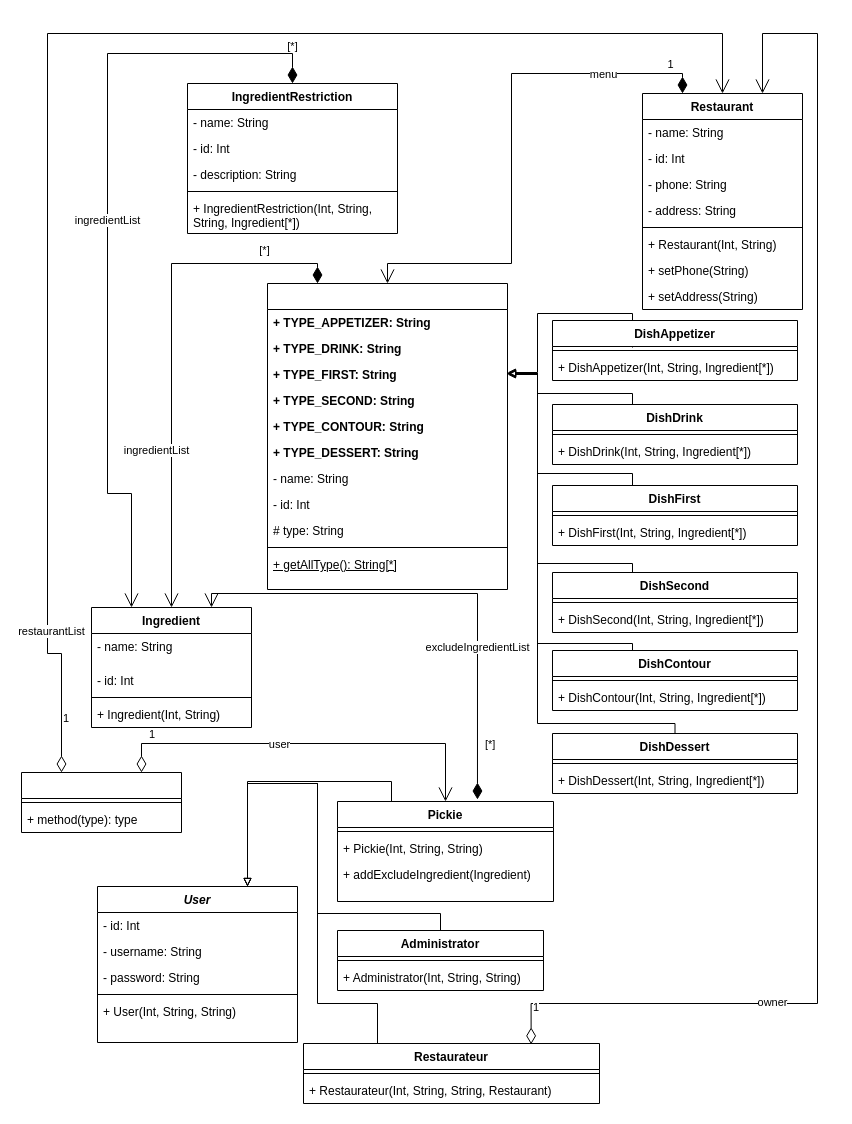
This 852x1124 diagram has some shape labels left out. The shapes that lost their labels are listed below. From the top down, each one's box as (x1, y1, x2, y2) in pixels, then its label:
(266, 282, 508, 590): Dish
(20, 772, 182, 832): FindRestaurant
